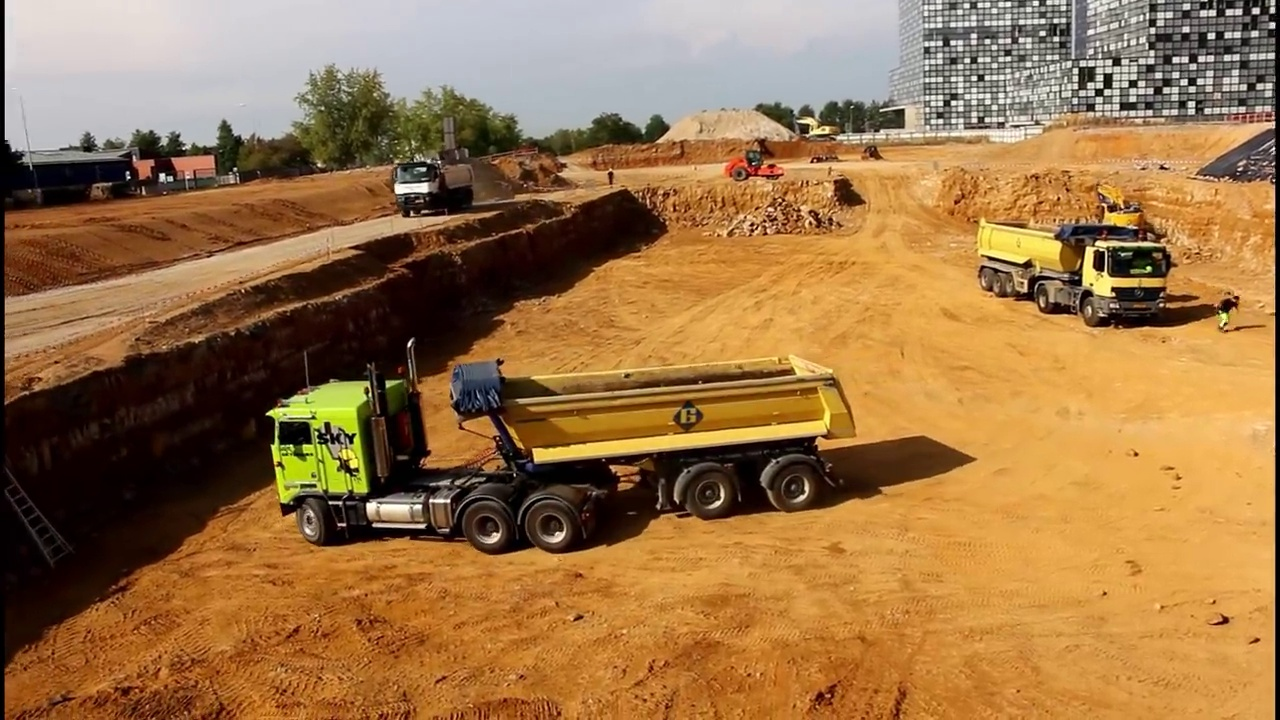compactor: (723, 147, 785, 183)
excavator: (1084, 181, 1165, 290), (791, 110, 841, 145)
truck: (262, 336, 862, 555), (974, 216, 1177, 328), (391, 157, 478, 220)
worker: (1213, 285, 1243, 333), (606, 164, 619, 192)
